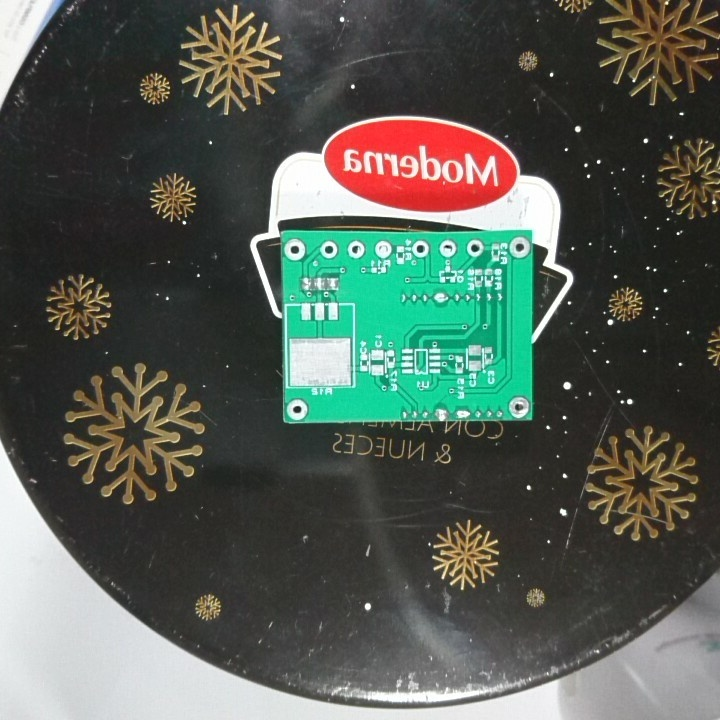F: (285, 397, 311, 423), (282, 238, 307, 263), (506, 395, 531, 420), (508, 236, 531, 260), (437, 238, 459, 260), (373, 238, 393, 260), (345, 240, 365, 262), (318, 238, 338, 260), (466, 238, 485, 260), (411, 238, 429, 260)
P: (431, 289, 451, 307), (454, 406, 473, 421), (431, 407, 451, 421)
